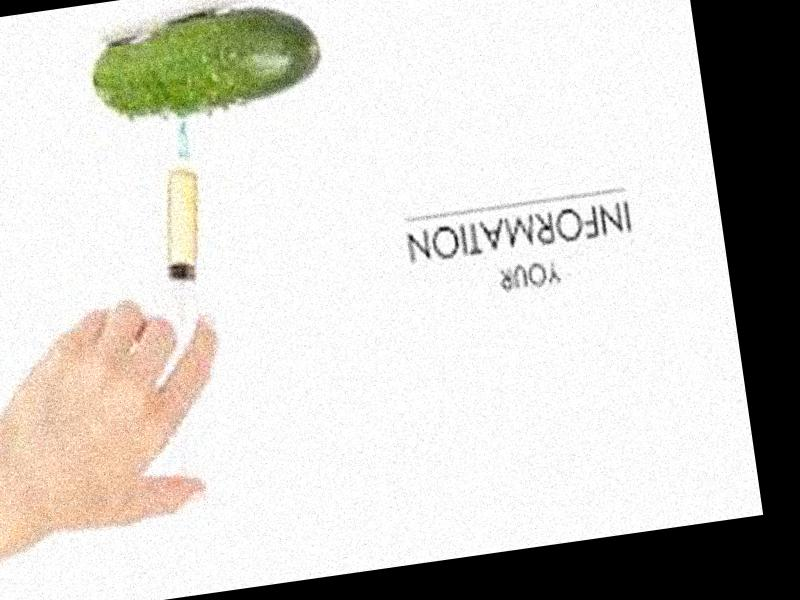Cucumber: (83, 3, 325, 128)
